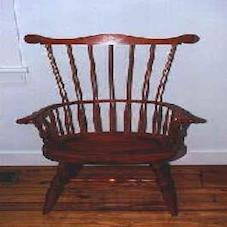chair: (9, 20, 206, 216)
